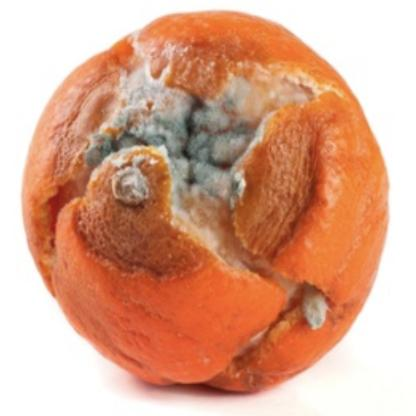rotten: (22, 8, 391, 389)
